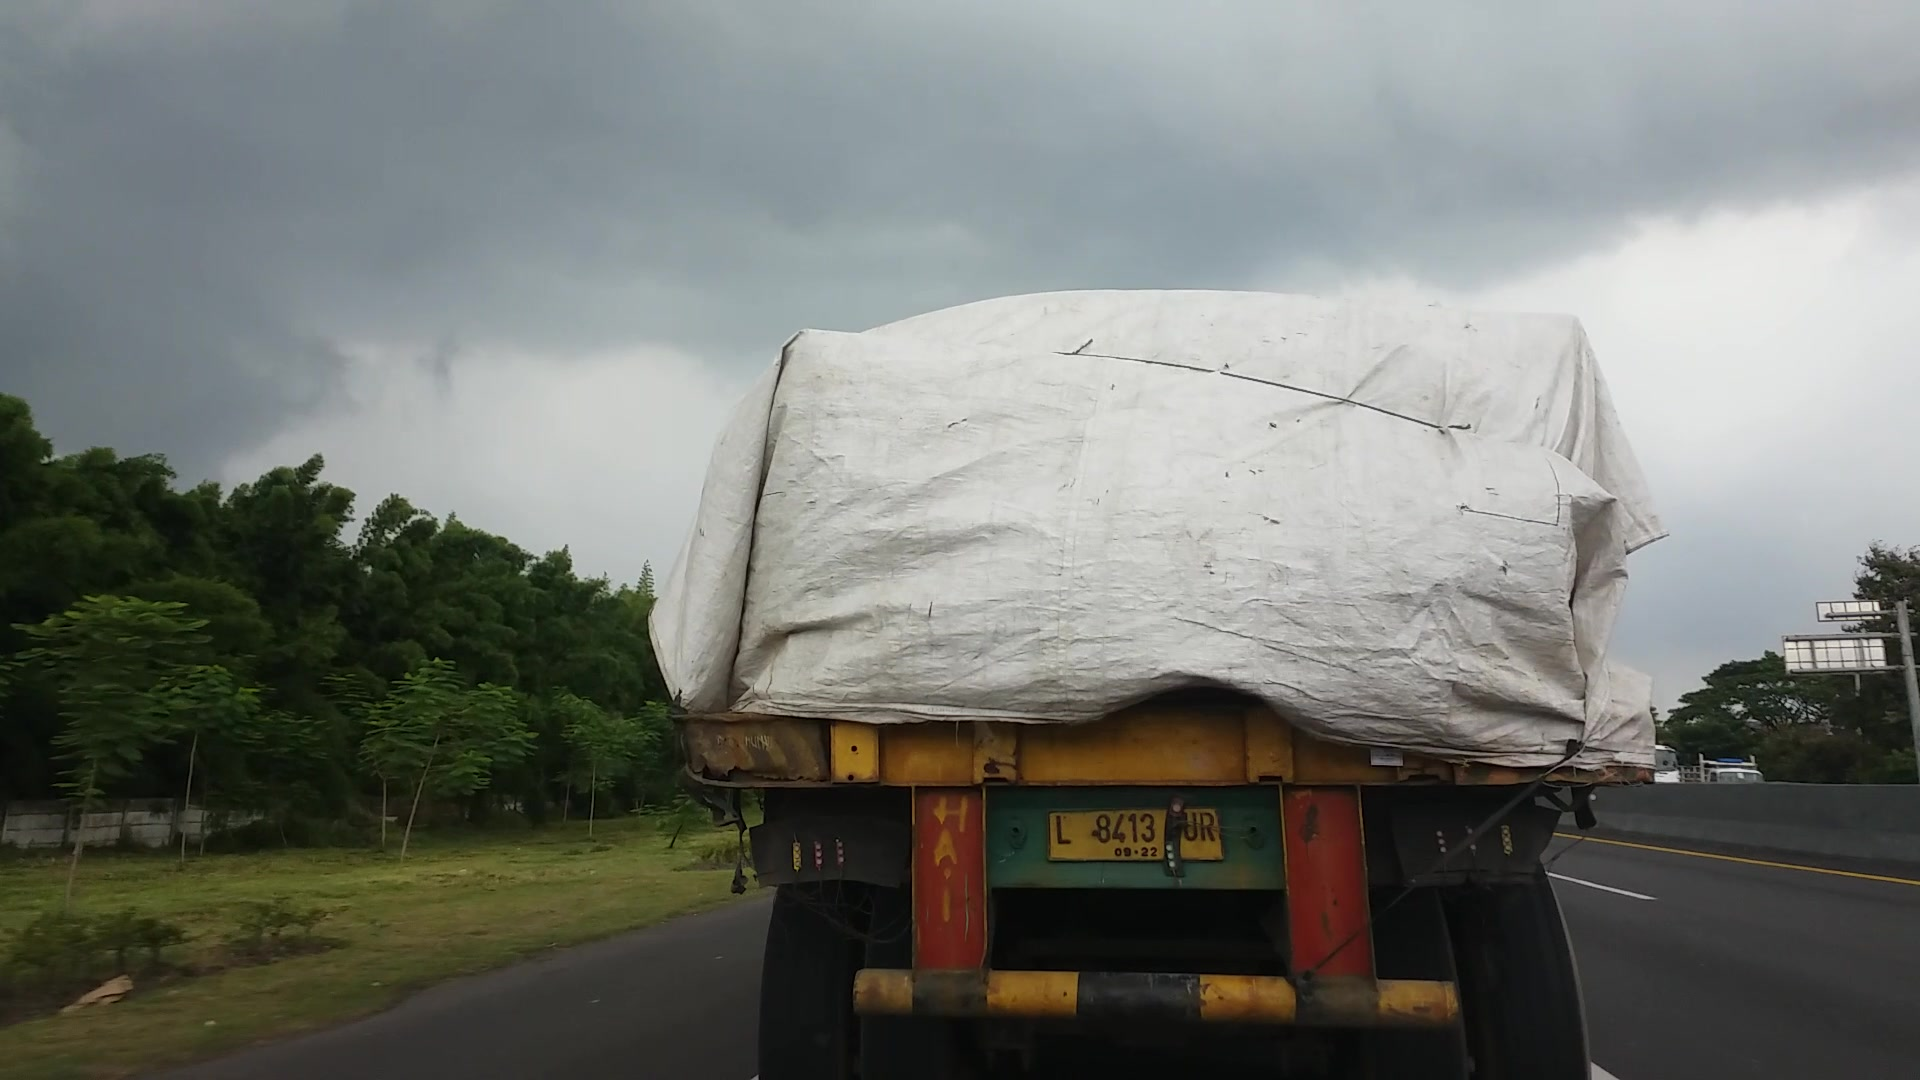plate_positive: (1047, 807, 1224, 862)
